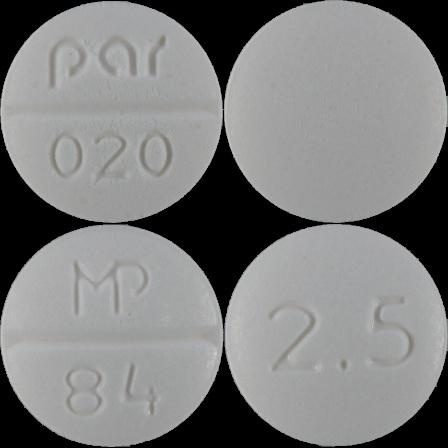69189-0374: (0, 0, 224, 224)
